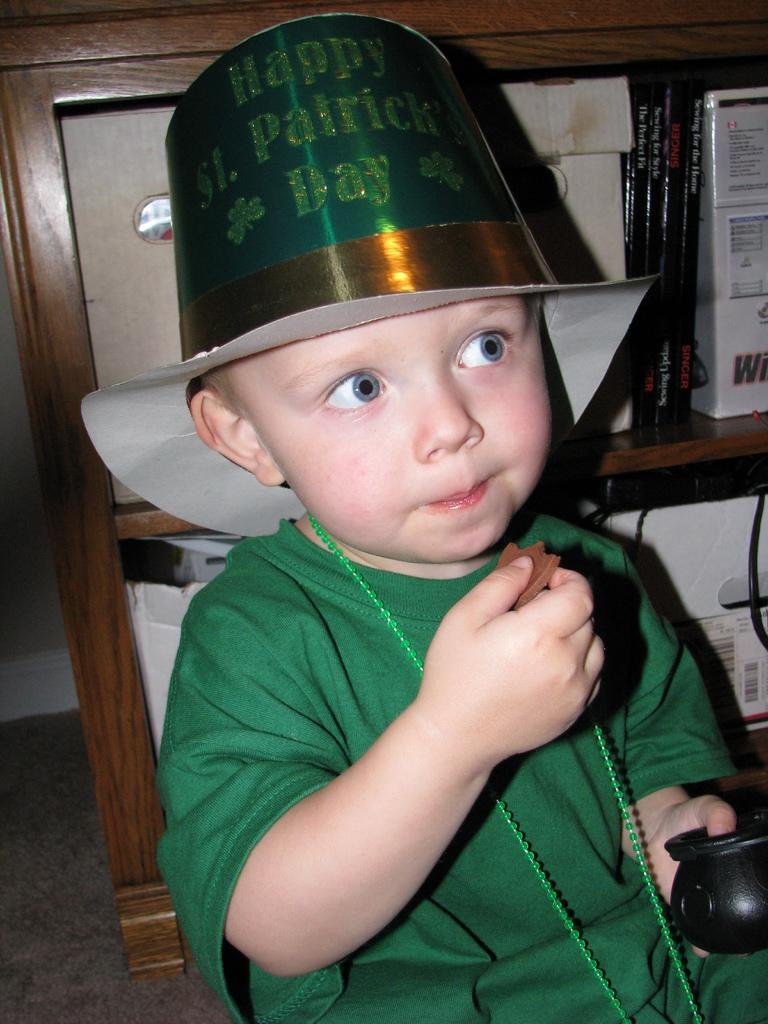Hat: (76, 10, 666, 540)
